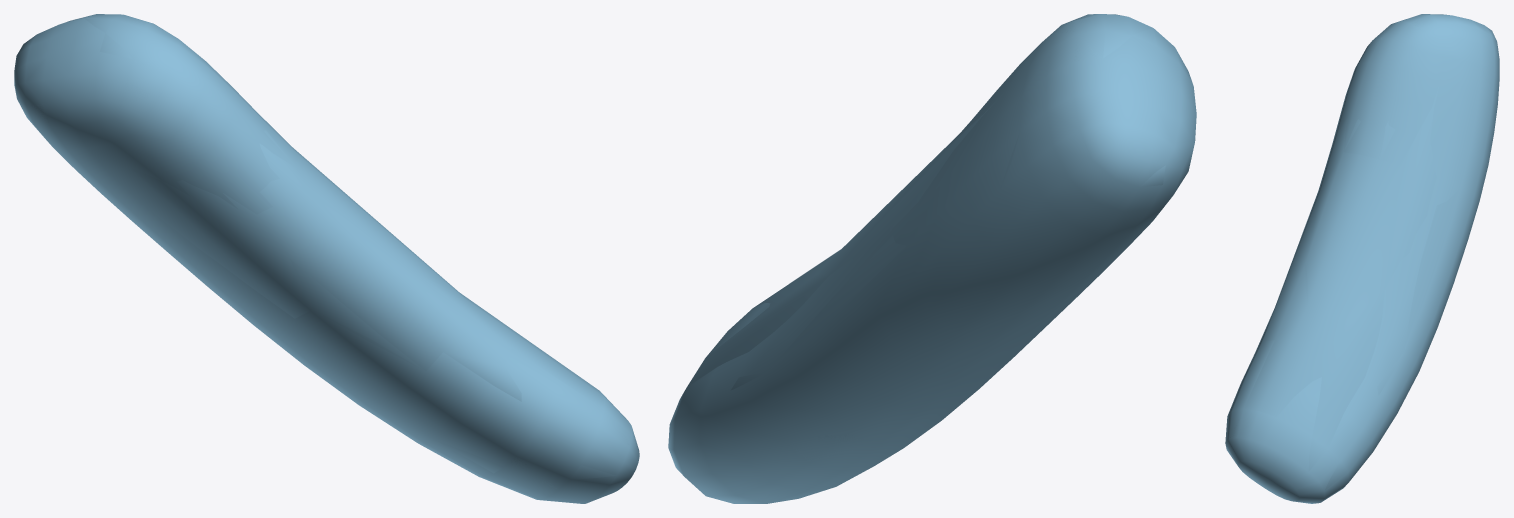
3 renders of one model, left to right at view 1: azimuth 30°, elevation 25°; view 2: azimuth 150°, elevation 25°; view 3: azimuth 270°, elevation 25°, orthographic. The views are drawn at different scales.
Parts seen in each view (by area): view 1: CC R2, CC R2 low; view 2: CC R2, CC R2 low; view 3: CC R2, CC R2 low.
Part boxes in pixels (left/top/right/bottom): CC R2: left=14, top=14, right=639, bottom=503; CC R2 low: left=14, top=14, right=631, bottom=488; CC R2: left=668, top=14, right=1196, bottom=503; CC R2 low: left=668, top=15, right=1193, bottom=503; CC R2: left=1225, top=14, right=1499, bottom=503; CC R2 low: left=1230, top=14, right=1491, bottom=490.
Size of the model in its own units: 5.92 by 5.86 by 4.08.
